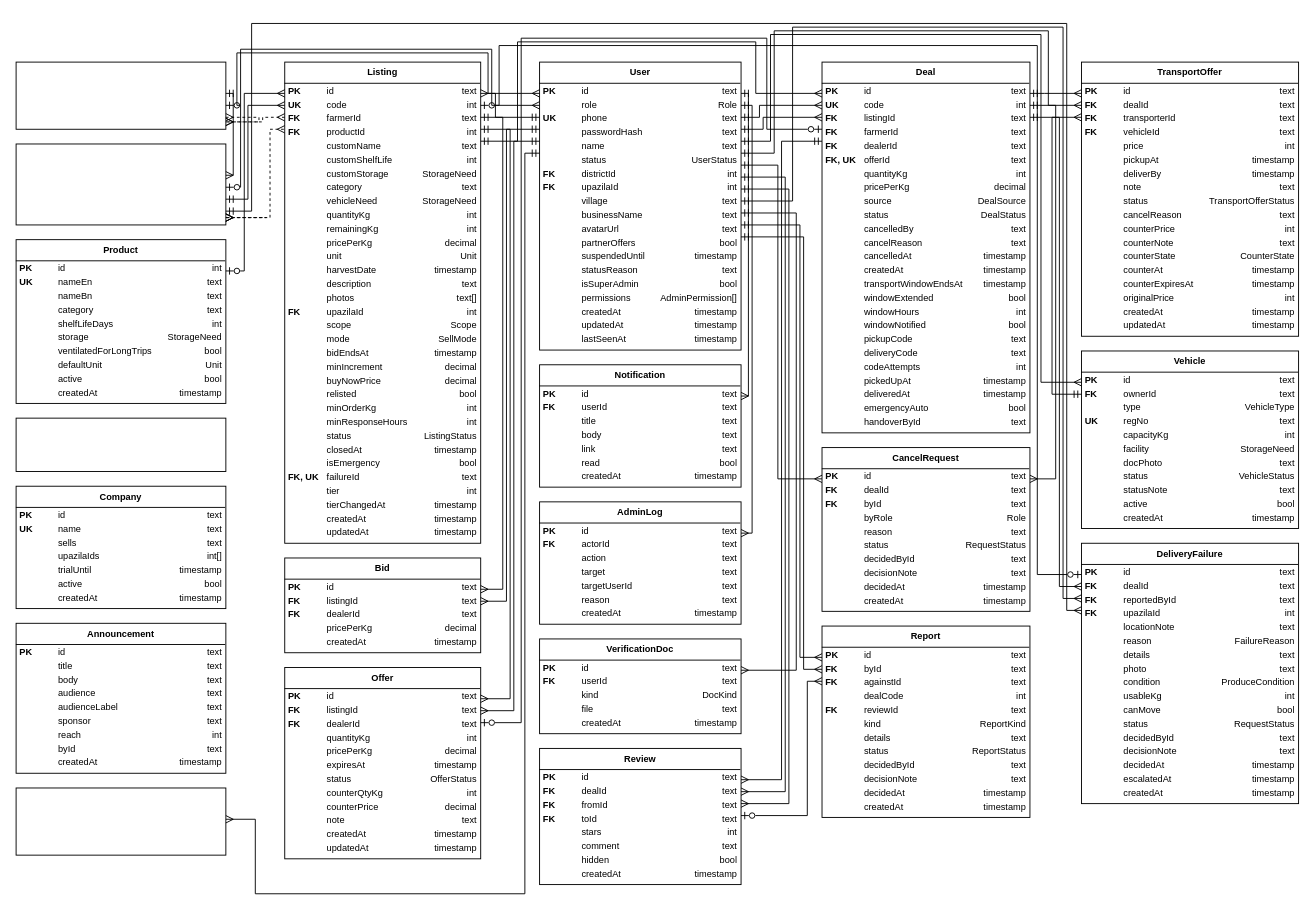
This 1315x918 diagram has some shape labels left out. Each missing label, with the centre of its shape:
CaseLock PK key text FK adminId text touchedAt timestamp: the point at 120,821
District PK id int UK name text nameBn text: the point at 120,95
Setting PK key text value json: the point at 120,444
Upazila PK id int name text nameBn text FK districtId int: the point at 120,184
